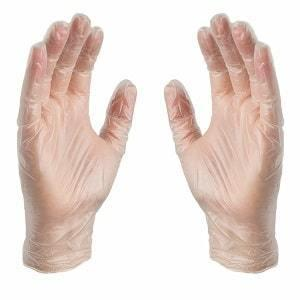gloves: (163, 13, 293, 282), (16, 12, 136, 281)
